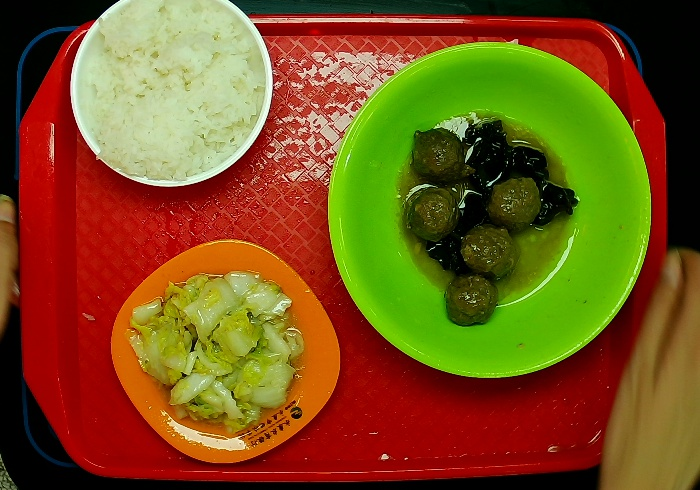YKMZ-Fan_Wan: (69, 1, 273, 188)
YKMZ-Ju_Se_Fang_Die: (111, 238, 342, 466)
YKMZ-Lv_Se_Tang_Wan: (327, 41, 654, 379)
